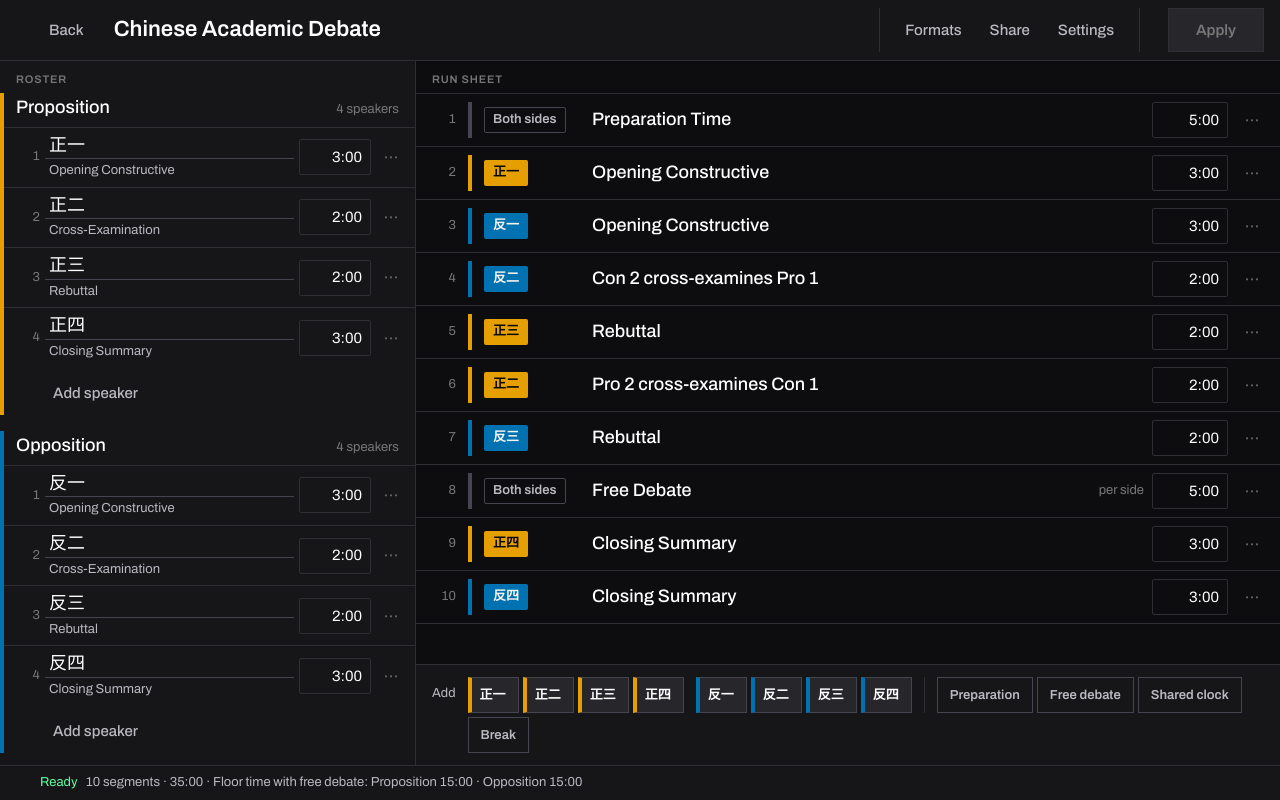
Test case: Editor › an old per-speech time that only matched the speaker follows the speaker from then on
This screenshot has width=1280, height=800.
Replace the text in the number field named "Segment 2 · 正一's time" with "3:30" at (1190, 173), box [1152, 155, 1228, 191]
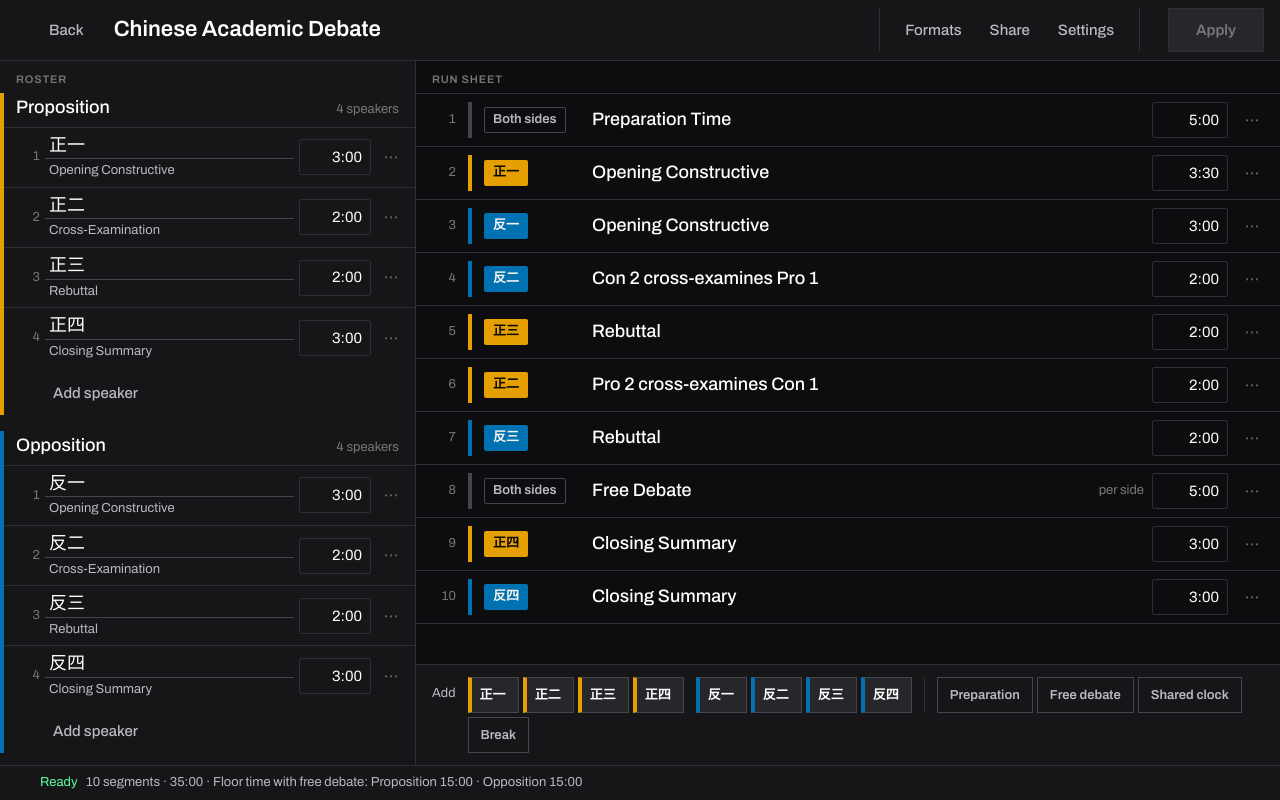
Press Enter in the number field named "Segment 2 · 正一's time", box [1152, 155, 1228, 191]
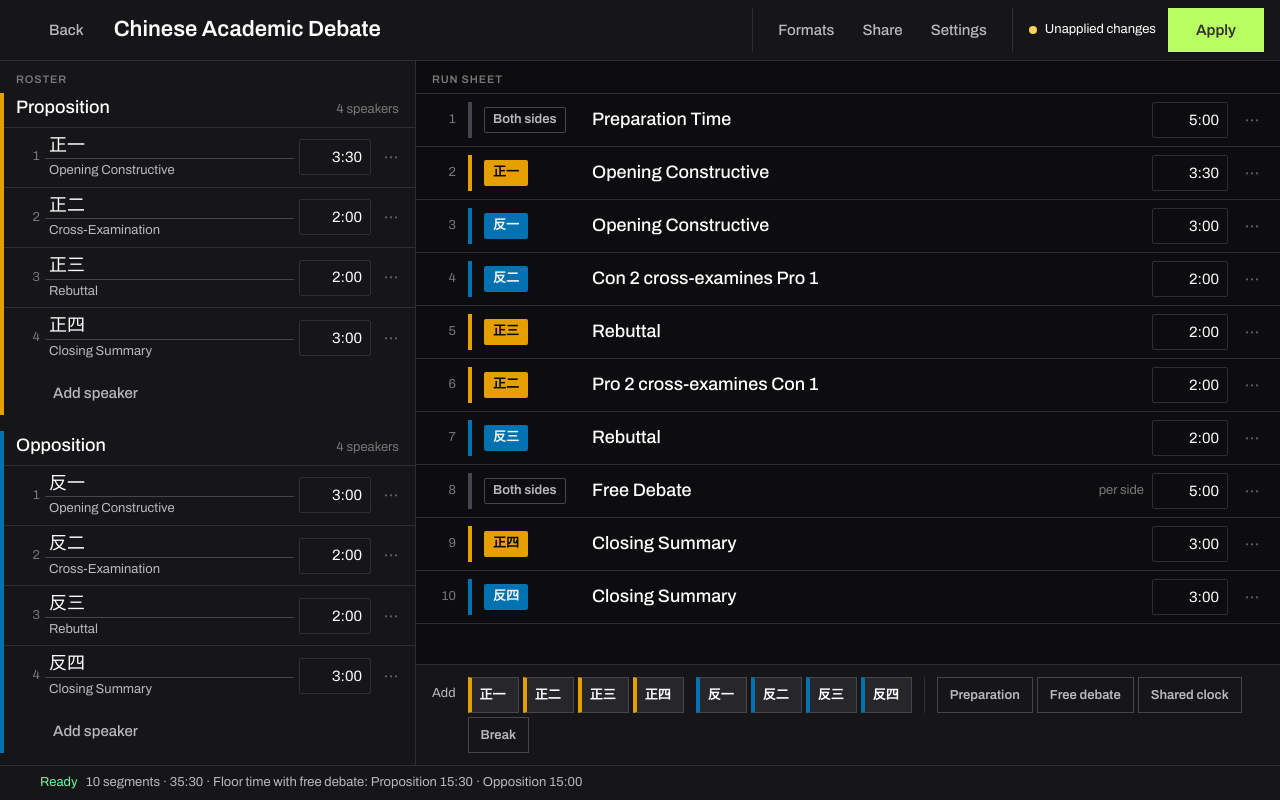
Expected: the text "Floor time with free debate: Proposition 15:30 · Opposition 15:00" is shown, [213, 776, 582, 790]
